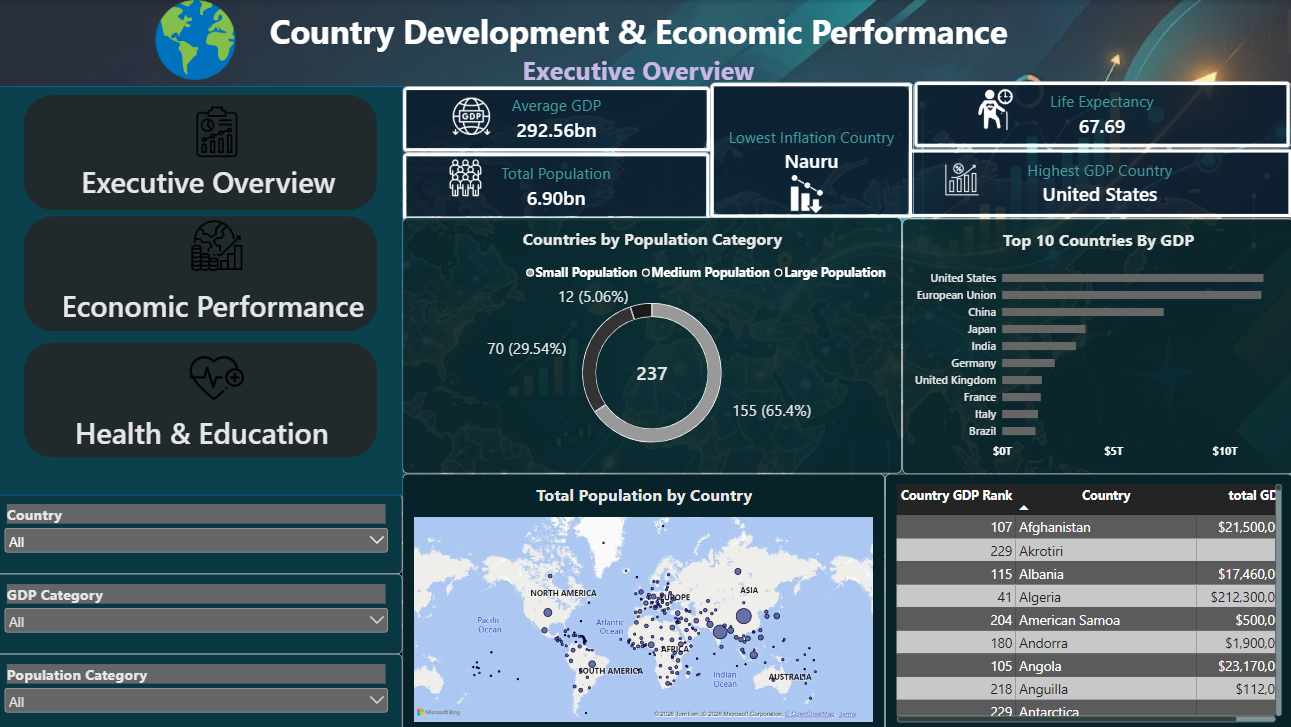

What the dashboard file says about the page in this screenshot:
{"tool":"powerbi","page":{"name":"Executive Overview","canvas":[1920,1080],"ordinal":0},"visuals":[{"type":"cardVisual","fields":{"Data":["DAX.Average Life Expectancy"]},"box":[1360.6,119.4,555.7,98.8],"z":0,"group":"g1"},{"type":"cardVisual","fields":{"Data":["DAX.Lowest Inflation Country"]},"box":[1060,121.4,300,200.2],"z":0,"group":"g5"},{"type":"shape","box":[0,127.5,607.5,602.5],"z":0,"group":"g7"},{"type":"cardVisual","fields":{"Data":["DAX.Average GDP"]},"box":[607.2,127.6,454,97.5],"z":0,"group":"g2"},{"type":"cardVisual","fields":{"Data":["DAX.Highest GDP Country"]},"box":[1350.5,218.2,567.8,102.9],"z":0,"group":"g4"},{"type":"cardVisual","fields":{"Data":["DAX.Total Population"]},"box":[607.2,224.4,453.5,101],"z":0,"group":"g3"},{"type":"slicer","fields":{"Values":["countries.Country"]},"box":[0,726.6,607.2,118],"z":0,"group":"g6"},{"type":"textbox","box":[0,12,1918,106],"z":1000},{"type":"image","box":[1360.6,130.6,241.1,61.5],"z":1000,"group":"g1"},{"type":"shape","box":[49.9,139.8,520.5,169.3],"z":1000,"group":"g7"},{"type":"image","box":[628.2,144.2,162.3,55.2],"z":1000,"group":"g2"},{"type":"image","box":[622.8,230.9,155.7,59.8],"z":1000,"group":"g3"},{"type":"image","box":[1317.3,238.9,226.7,49.8],"z":1000,"group":"g4"},{"type":"image","box":[1109.8,257,185,56],"z":1000,"group":"g5"},{"type":"slicer","fields":{"Values":["countries.Population Category"]},"box":[0,962.6,607.2,118],"z":1000,"group":"g6"},{"type":"group","id":"g1","title":"Group 2","box":[1360.6,119.4,555.7,98.8],"z":2000},{"type":"textbox","box":[133.7,238.7,396.4,75],"z":2000,"group":"g7"},{"type":"slicer","fields":{"Values":["countries.GDP Category"]},"box":[0,844.6,607.2,118],"z":2000,"group":"g6"},{"type":"group","id":"g2","title":"Group 3","box":[607.2,127.6,452.8,98.8],"z":3000},{"type":"shape","box":[49.9,319,520.5,169.3],"z":3000,"group":"g7"},{"type":"group","id":"g3","title":"Group 3","box":[607.2,224.4,452.8,100.9],"z":4000},{"type":"shape","box":[49.9,504.4,520.5,169.3],"z":4000,"group":"g7"},{"type":"image","title":"Economic Performance Analysis","box":[229.9,154.8,207.7,79.6],"z":5000,"group":"g7"},{"type":"group","id":"g4","title":"Group 2","box":[1317.3,218.2,601,102.9],"z":5000},{"type":"clusteredBarChart","title":"Top 10 Countries By GDP","fields":{"Category":["countries.Country"],"Y":["DAX.total GDP"]},"box":[1344,322,576,376],"z":6000},{"type":"image","title":"Economic Performance Analysis","box":[229.9,518.2,207.7,79.6],"z":6000,"group":"g7"},{"type":"group","id":"g5","title":"Group 2","box":[1060,121.4,300.5,199.7],"z":7000},{"type":"textbox","box":[102.8,419.3,461.8,74.1],"z":7000,"group":"g7"},{"type":"donutChart","title":"Countries by Population Category","fields":{"Category":["countries.Population Category"],"Y":["Count(countries.c_id)"]},"box":[607.2,321.1,734.8,376.7],"z":8000},{"type":"image","title":"Economic Performance Analysis","box":[229.9,323.5,207.7,79.6],"z":8000,"group":"g7"},{"type":"textbox","box":[124.3,608.7,417.5,87.5],"z":9000,"group":"g7"},{"type":"map","fields":{"Category":["countries.Country"],"Size":["DAX.Total Population"]},"box":[607.2,697.8,710.1,382.8],"z":9000},{"type":"tableEx","fields":{"Values":["DAX.Country GDP Rank","countries.Country","DAX.total GDP"]},"box":[1317.3,697.8,601,382.8],"z":10000},{"type":"group","id":"g6","title":"Group 4","box":[0,726.6,607.2,354],"z":11000},{"type":"image","box":[120,0,365.1,117.4],"z":12000},{"type":"group","id":"g7","title":"Group 1","box":[0,127.5,607.5,602.5],"z":13001}]}

Visuals, with their boxes in screenshot pixels (x1, y1, x2, y2), scaled from the page's 1920x1080 canvas onto the 1291x727 screenshot:
cardVisual - DAX.Average Life Expectancy: Rect(915, 80, 1289, 147)
cardVisual - DAX.Lowest Inflation Country: Rect(713, 82, 914, 216)
shape: Rect(0, 86, 408, 491)
cardVisual - DAX.Average GDP: Rect(408, 86, 714, 152)
cardVisual - DAX.Highest GDP Country: Rect(908, 147, 1290, 216)
cardVisual - DAX.Total Population: Rect(408, 151, 713, 219)
slicer - countries.Country: Rect(0, 489, 408, 569)
textbox: Rect(0, 8, 1290, 79)
image: Rect(915, 88, 1077, 129)
shape: Rect(34, 94, 384, 208)
image: Rect(422, 97, 532, 134)
image: Rect(419, 155, 523, 196)
image: Rect(886, 161, 1038, 194)
image: Rect(746, 173, 871, 211)
slicer - countries.Population Category: Rect(0, 648, 408, 726)
"Group 2" group: Rect(915, 80, 1289, 147)
textbox: Rect(90, 161, 356, 211)
slicer - countries.GDP Category: Rect(0, 569, 408, 648)
"Group 3" group: Rect(408, 86, 713, 152)
shape: Rect(34, 215, 384, 329)
"Group 3" group: Rect(408, 151, 713, 219)
shape: Rect(34, 340, 384, 453)
"Economic Performance Analysis" image: Rect(155, 104, 294, 158)
"Group 2" group: Rect(886, 147, 1290, 216)
"Top 10 Countries By GDP" clusteredBarChart: Rect(904, 217, 1290, 470)
"Economic Performance Analysis" image: Rect(155, 349, 294, 402)
"Group 2" group: Rect(713, 82, 915, 216)
textbox: Rect(69, 282, 380, 332)
"Countries by Population Category" donutChart: Rect(408, 216, 902, 470)
"Economic Performance Analysis" image: Rect(155, 218, 294, 271)
textbox: Rect(84, 410, 364, 469)
map - countries.Country x DAX.Total Population: Rect(408, 470, 886, 726)
tableEx - DAX.Country GDP Rank x countries.Country: Rect(886, 470, 1290, 726)
"Group 4" group: Rect(0, 489, 408, 726)
image: Rect(81, 0, 326, 79)
"Group 1" group: Rect(0, 86, 408, 491)
